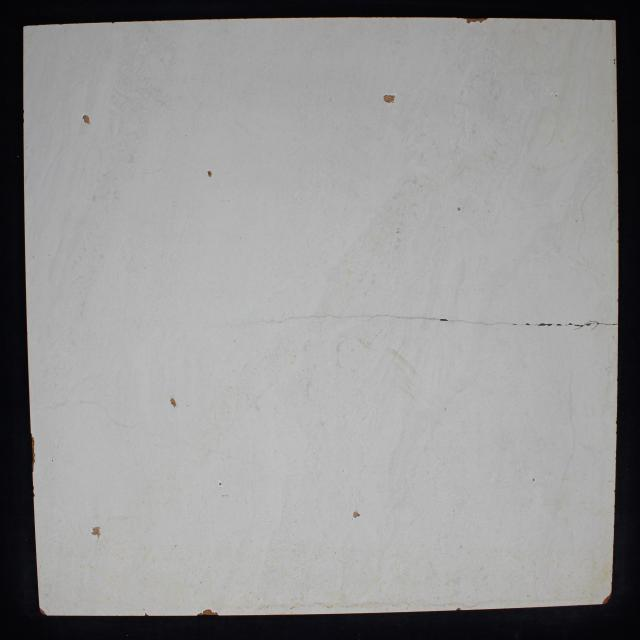edge-chipping: (30, 433, 36, 471), (197, 609, 220, 616), (602, 592, 612, 604), (38, 607, 48, 616), (478, 17, 489, 24), (466, 17, 477, 24), (32, 486, 36, 498), (455, 17, 465, 20), (144, 612, 149, 616), (456, 608, 462, 611)
hole: (91, 526, 101, 539), (383, 94, 396, 104), (352, 510, 361, 520), (82, 114, 90, 125), (170, 398, 178, 408), (206, 170, 212, 178), (537, 323, 546, 327), (574, 324, 584, 327), (546, 323, 552, 327), (218, 481, 222, 486), (525, 323, 531, 326), (457, 207, 461, 211), (568, 323, 573, 326), (586, 323, 591, 326), (556, 324, 563, 326), (532, 478, 535, 482)
line: (264, 314, 372, 323), (373, 314, 439, 320), (448, 320, 523, 325), (600, 322, 616, 326)
